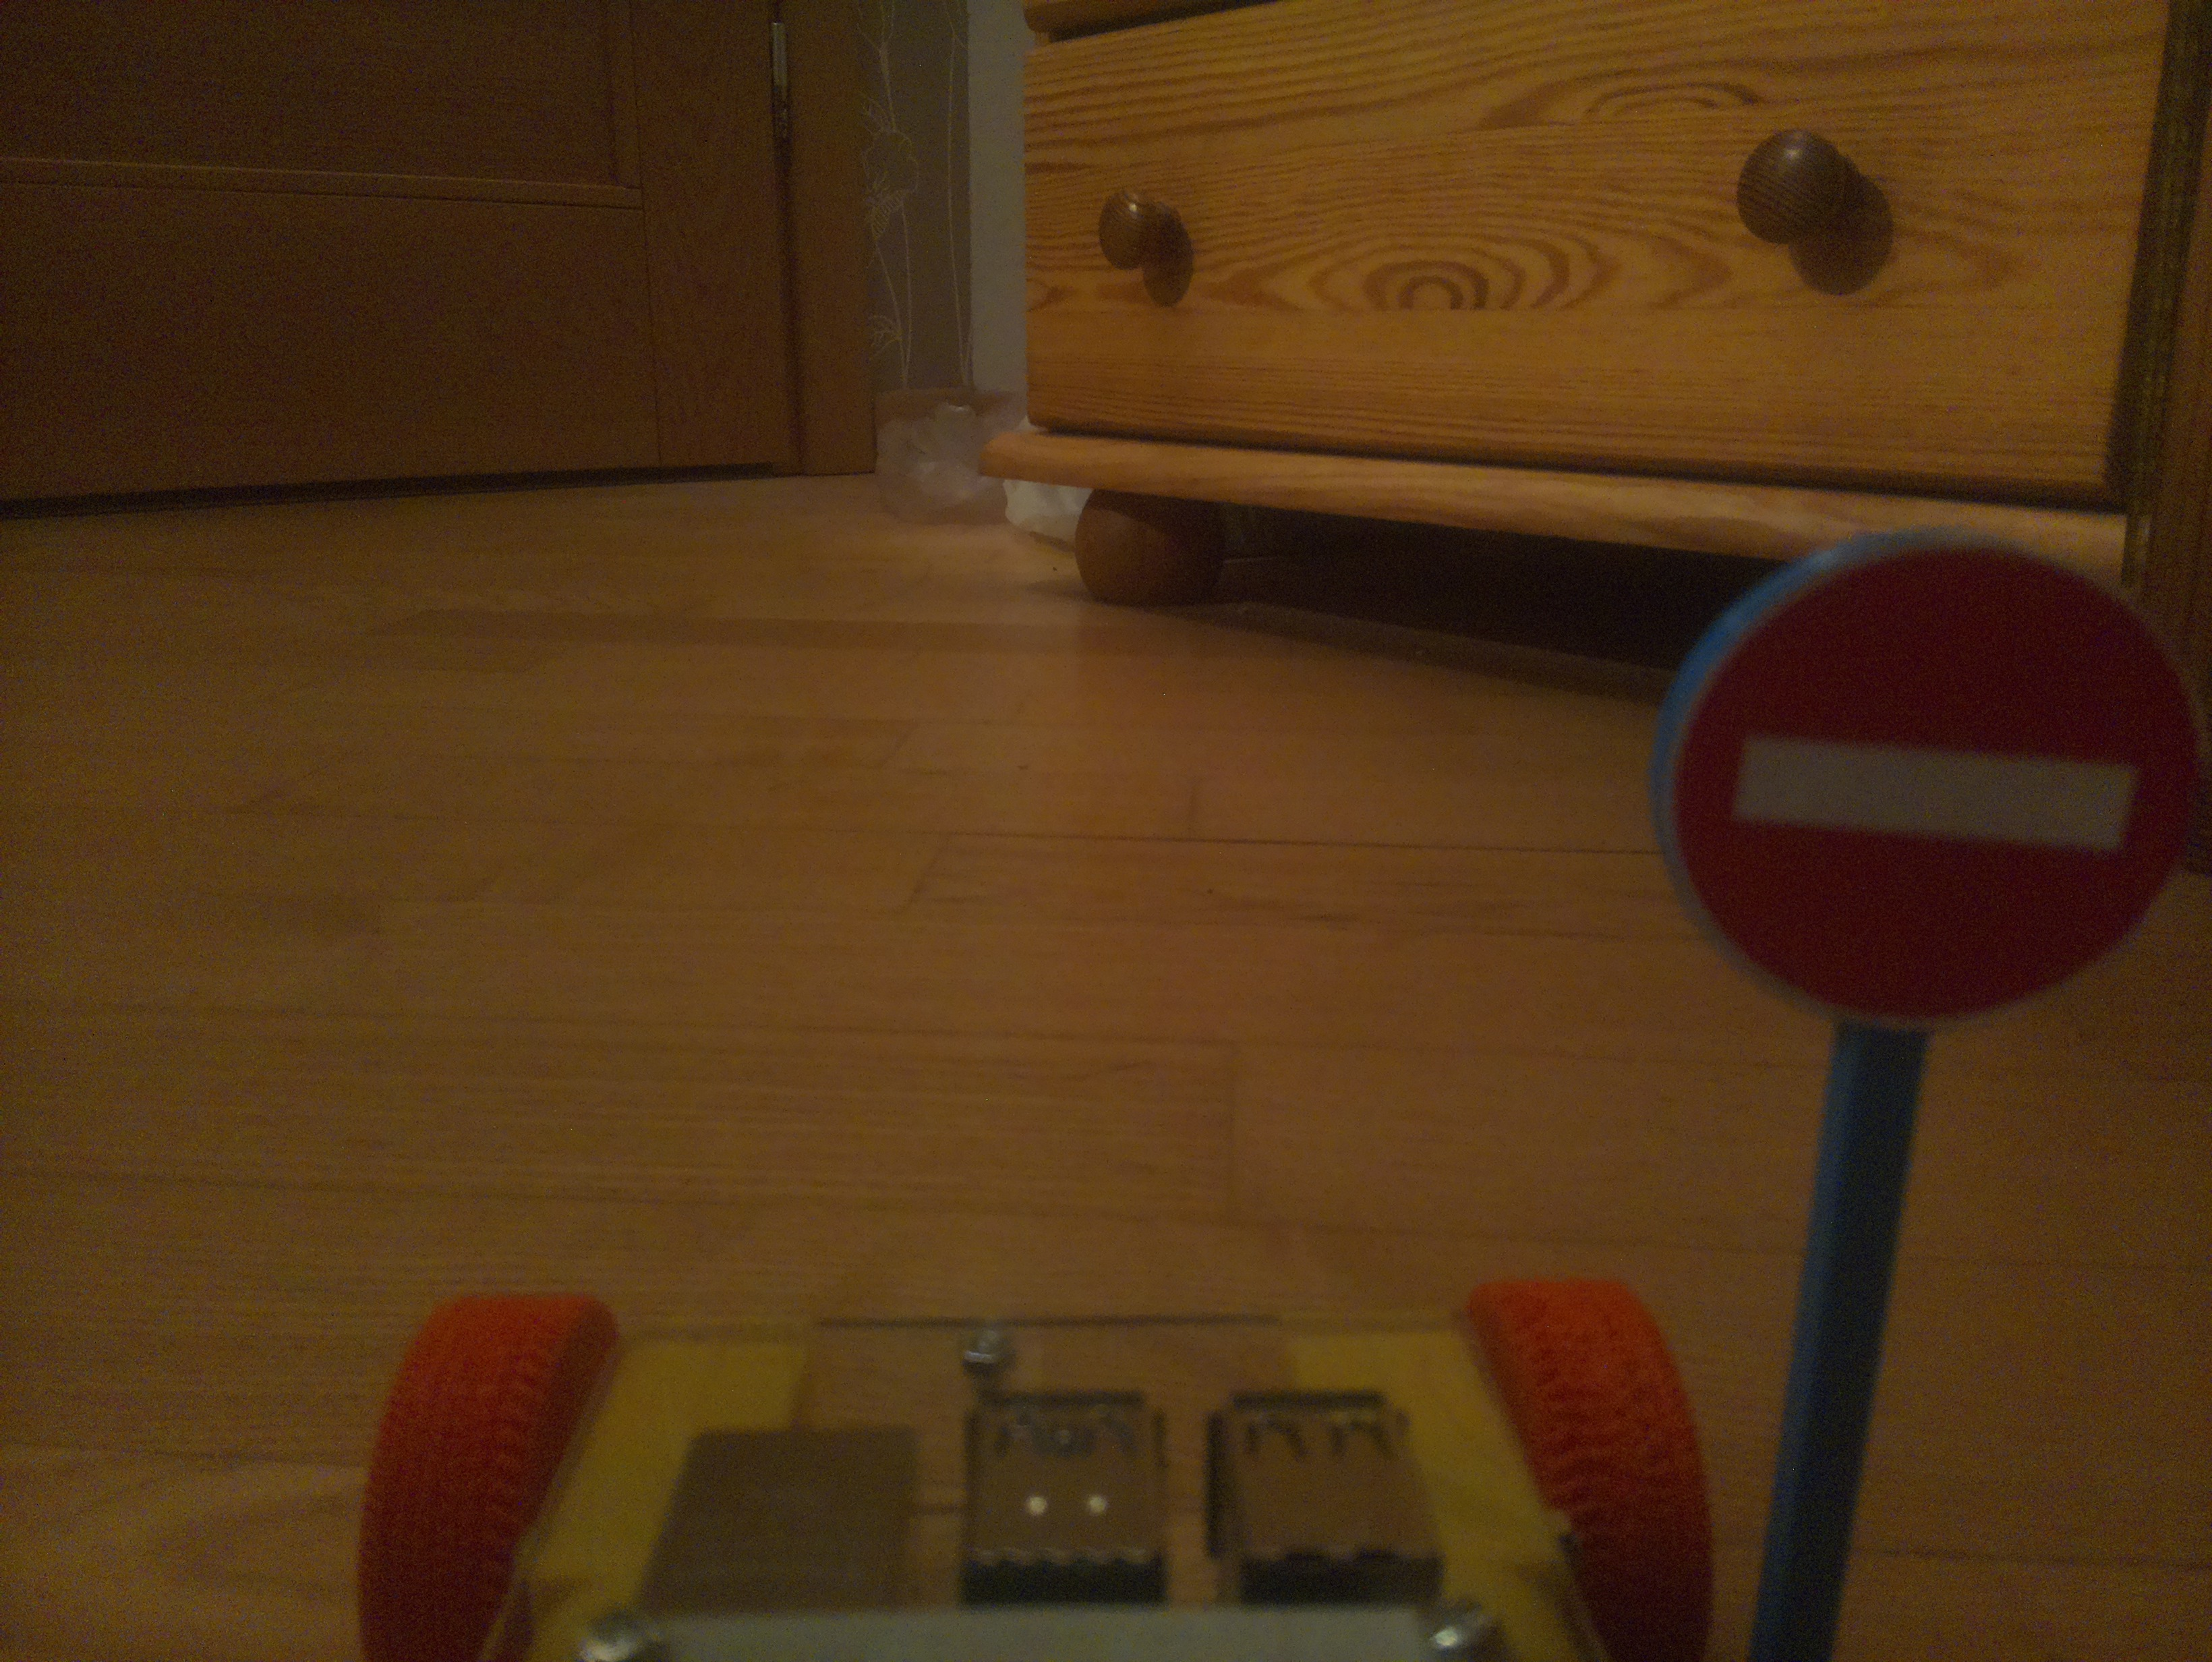brick: (1310, 368, 1418, 482)
